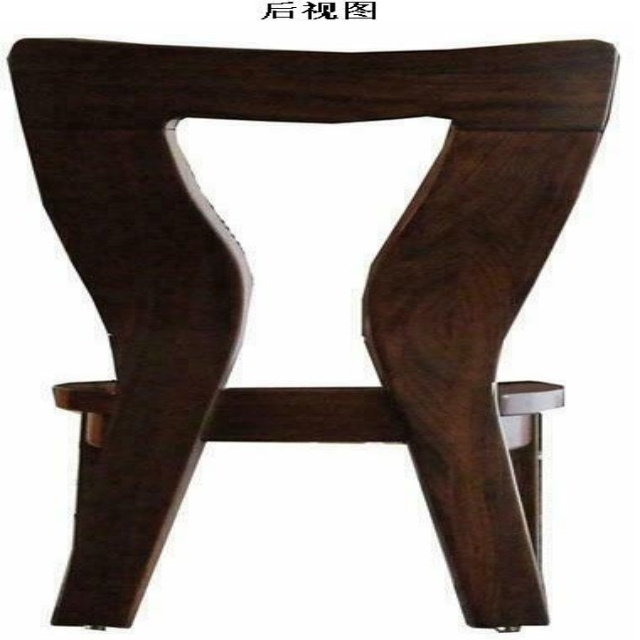obstacle: (10, 39, 615, 630)
